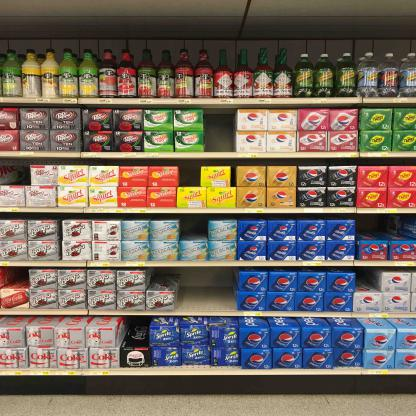Void: (175, 267, 236, 308), (356, 217, 413, 239), (203, 110, 229, 150), (180, 220, 210, 239), (148, 264, 169, 289), (175, 165, 198, 184), (358, 270, 376, 290), (6, 168, 26, 182), (9, 270, 21, 286)
